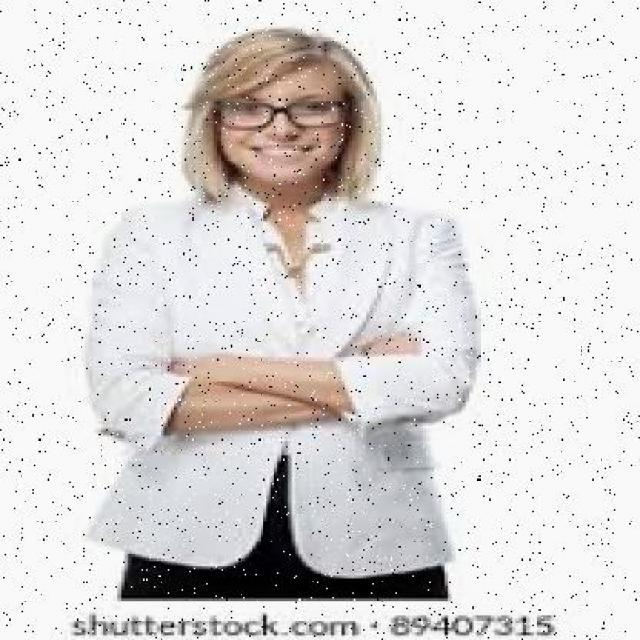glasses: (186, 89, 352, 137)
